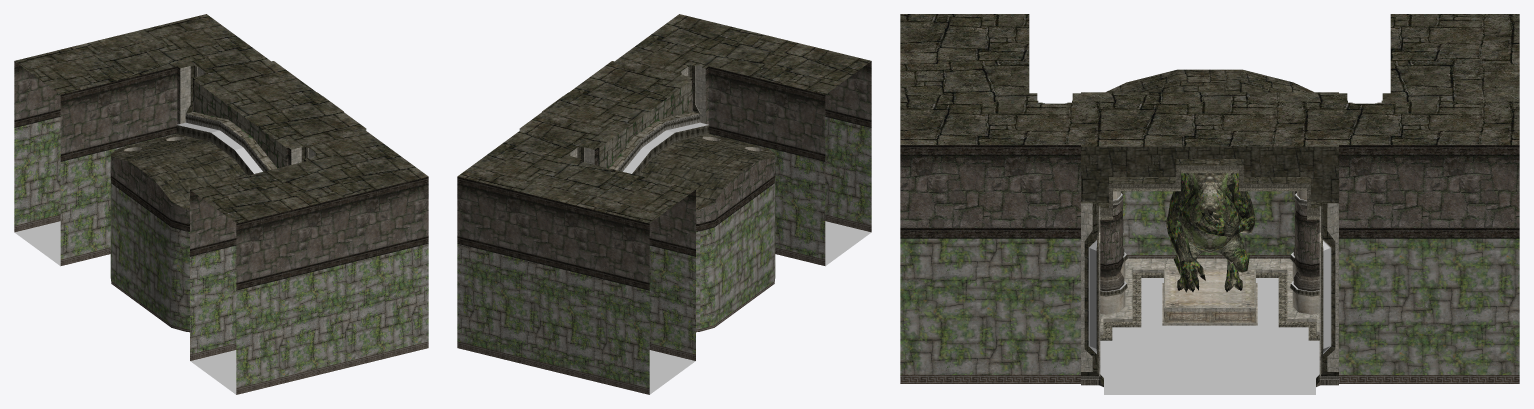
The model's file is thm_yavn_palace_woolamander_r9_statue_wing_1_mesh.fbx.
3 renders of one model, left to right at view 1: azimuth 30°, elevation 25°; view 2: azimuth 150°, elevation 25°; view 3: azimuth 270°, elevation 25°, orthographic. The views are drawn at different scales.
Parts seen in each view (by area): view 1: mesh_node; view 2: mesh_node; view 3: mesh_node.
Part boxes in pixels (box(x1,y1,x2,y2)): mesh_node: box(14, 14, 428, 394); mesh_node: box(457, 14, 871, 394); mesh_node: box(900, 14, 1519, 394).
Bounding box in the file's own units: 13 × 10.22 × 24.
